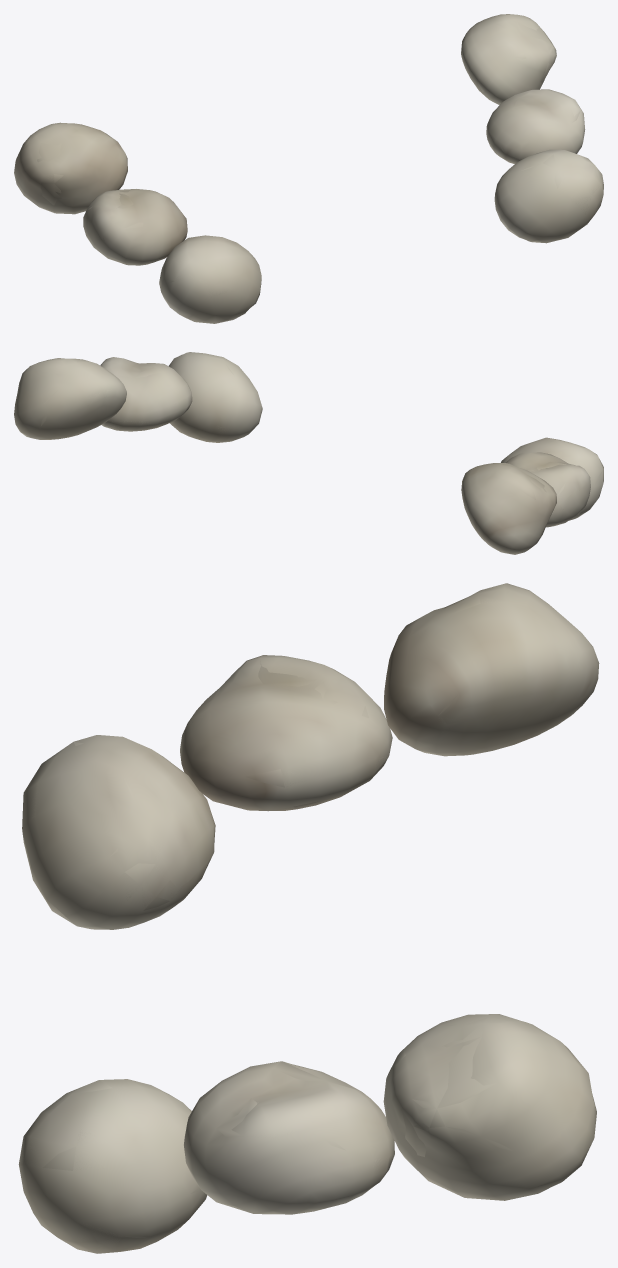
The model's file is Teeth Lower.fbx.
3 renders of one model, top to bottom at view 1: azimuth 30°, elevation 25°; view 2: azimuth 150°, elevation 25°; view 3: azimuth 270°, elevation 25°, orthographic. The views are drawn at different scales.
Visible parts, largest first — view 1: Teeth Lower, Teeth Lower low; view 2: Teeth Lower, Teeth Lower low; view 3: Teeth Lower, Teeth Lower low.
Part boxes in pixels (x1,y1,x2,y2): Teeth Lower: (14, 14, 603, 323); Teeth Lower low: (22, 20, 602, 318); Teeth Lower: (14, 352, 603, 554); Teeth Lower low: (22, 356, 602, 540); Teeth Lower: (18, 583, 599, 1253); Teeth Lower low: (19, 594, 587, 1252).
Bounding box in the file's own units: 2 × 0.4925 × 0.9578.
1 material, 1 textured.
